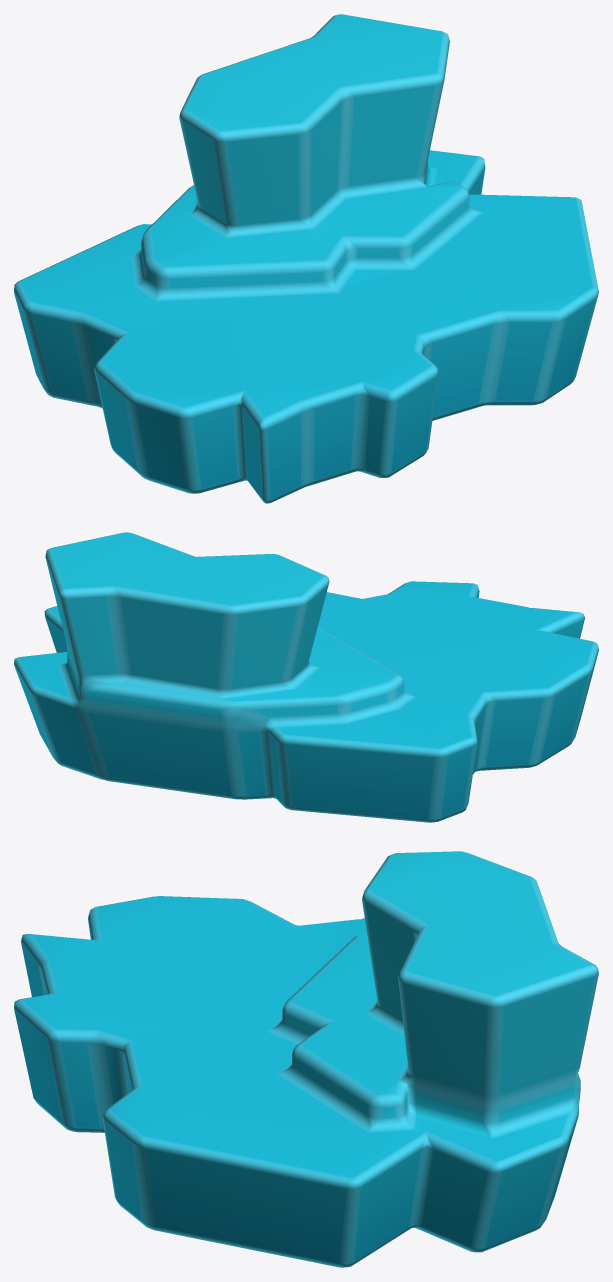
Rendered from ice_004.fbx.
The picture shows the model from 3 angles, top to bottom: view 1: azimuth 30°, elevation 25°; view 2: azimuth 150°, elevation 25°; view 3: azimuth 270°, elevation 25°; orthographic projection. The views are drawn at different scales.
Parts seen in each view (by area): view 1: ice_004; view 2: ice_004; view 3: ice_004.
Boxes of the visible parts, box(x1,y1,x2,y2) form: ice_004: box(14, 14, 598, 503); ice_004: box(14, 532, 598, 822); ice_004: box(14, 851, 598, 1267).
Bounding box in the file's own units: 744 × 639 × 302.
